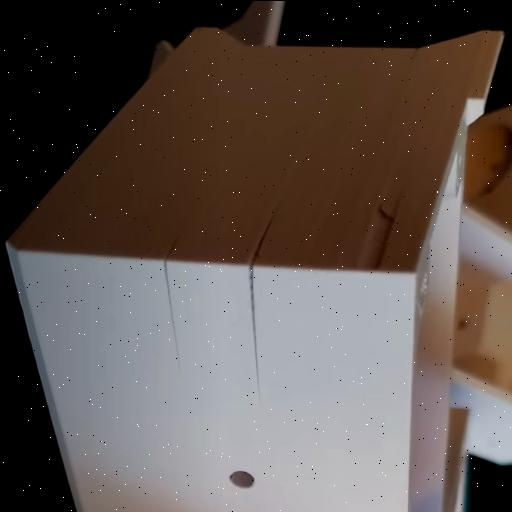cracks: (135, 148, 191, 360), (237, 192, 275, 382), (348, 178, 402, 269)
